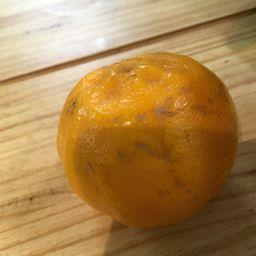Ripe: (59, 51, 239, 227)
